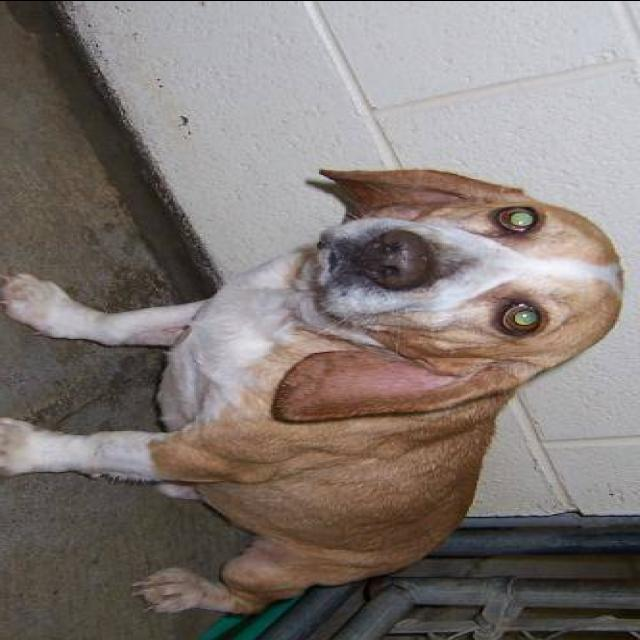dog: (8, 162, 630, 614)
